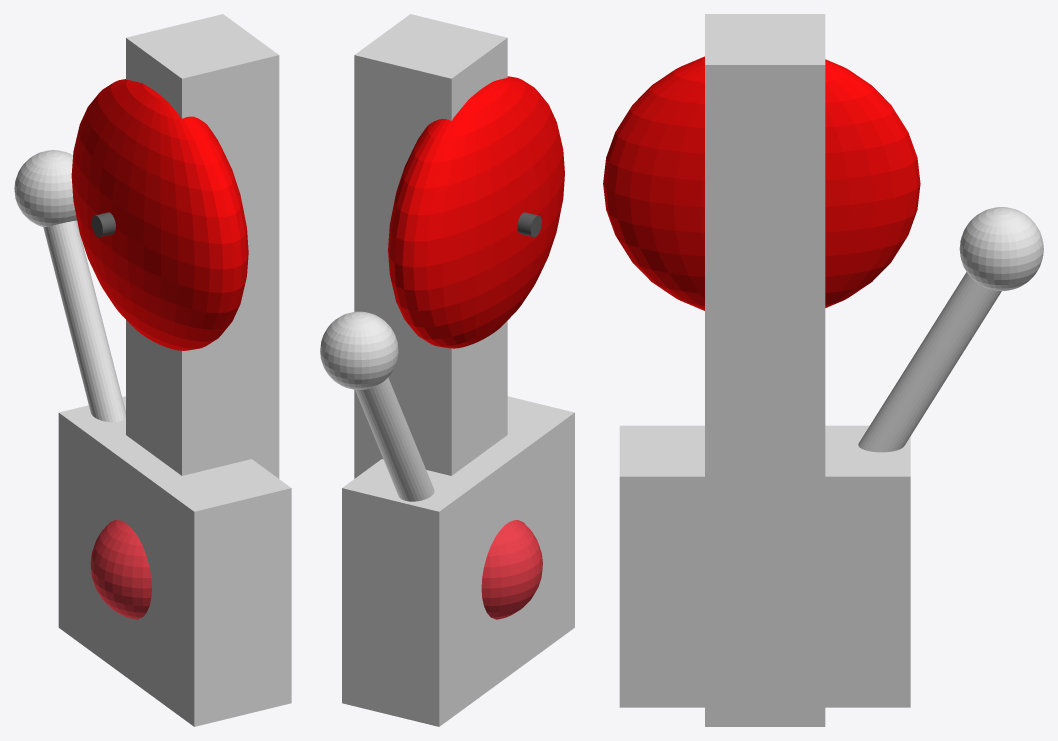
Rendered from Bell.gltf.
3 views of the same model, side by side, from view 1: azimuth 30°, elevation 25°; view 2: azimuth 150°, elevation 25°; view 3: azimuth 270°, elevation 25° (orthographic). The views are drawn at different scales.
Visible parts, largest first — view 1: Cube; view 2: Cube; view 3: Cube.
Part boxes in pixels (x1,y1,x2,y2): Cube: [14, 14, 291, 726]; Cube: [320, 14, 574, 726]; Cube: [603, 14, 1043, 726].
Bounding box in the file's own units: 3.17 × 12.13 × 7.32.
